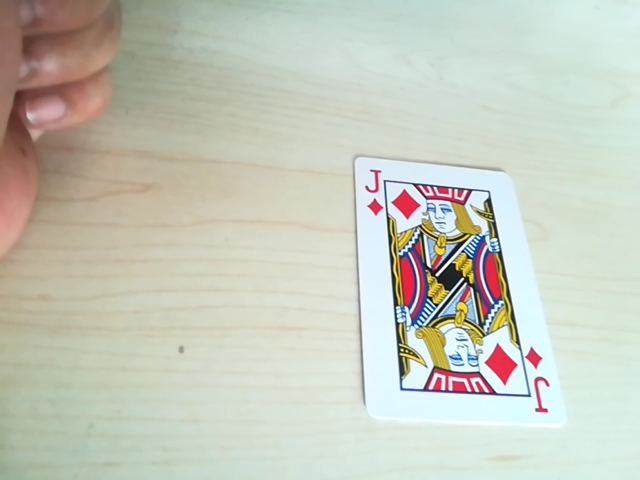fk j: (408, 359, 549, 412), (365, 167, 491, 225)
